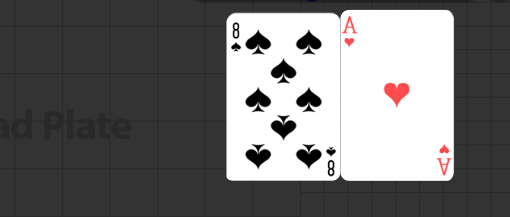8S: (230, 21, 243, 55)
AH: (435, 141, 452, 176)
